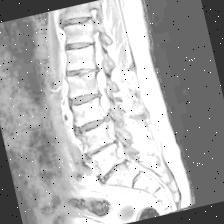disc: (57, 8, 97, 35)
hdisc: (71, 108, 123, 138), (81, 133, 131, 162), (91, 159, 144, 185), (58, 34, 100, 58), (61, 60, 104, 83), (66, 87, 106, 109)
